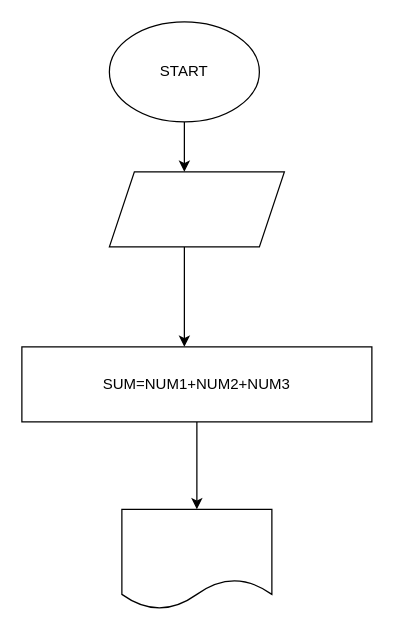
Some shapes in this 394 by 631 pixel diagram are drawn without their labels. The shapes that lost their labels are listed below. From the top down, each one's centre as x and y in pixels, then its label:
point (196, 209): NUM1=1, NUM2=2, NUM3=3,
point (196, 558): PRINT SUM
